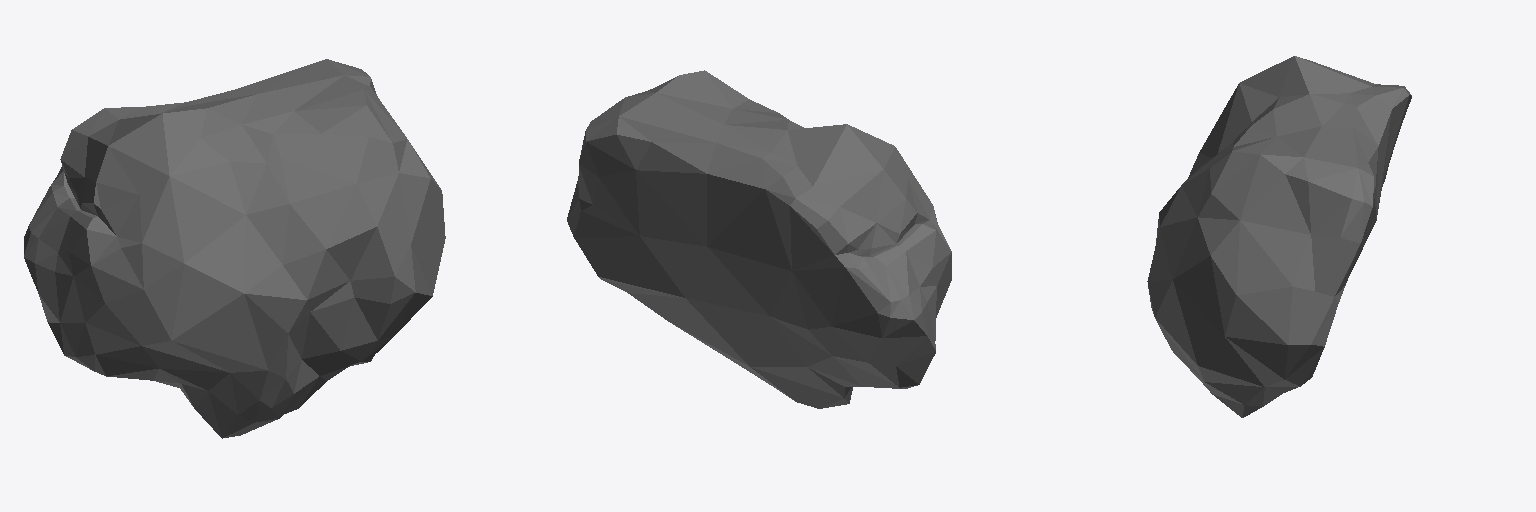
File: stone.obj
3 views of the same model, side by side, from view 1: azimuth 30°, elevation 25°; view 2: azimuth 150°, elevation 25°; view 3: azimuth 270°, elevation 25° (orthographic).
Visible parts, largest first — view 1: rock_1_Untitled.017; view 2: rock_1_Untitled.017; view 3: rock_1_Untitled.017.
Boxes of the visible parts, x1=… form: rock_1_Untitled.017: x1=24, y1=59, x2=445, y2=438; rock_1_Untitled.017: x1=567, y1=70, x2=951, y2=408; rock_1_Untitled.017: x1=1147, y1=56, x2=1411, y2=417.
Bounding box in the file's own units: 2.17 × 1.74 × 1.32.